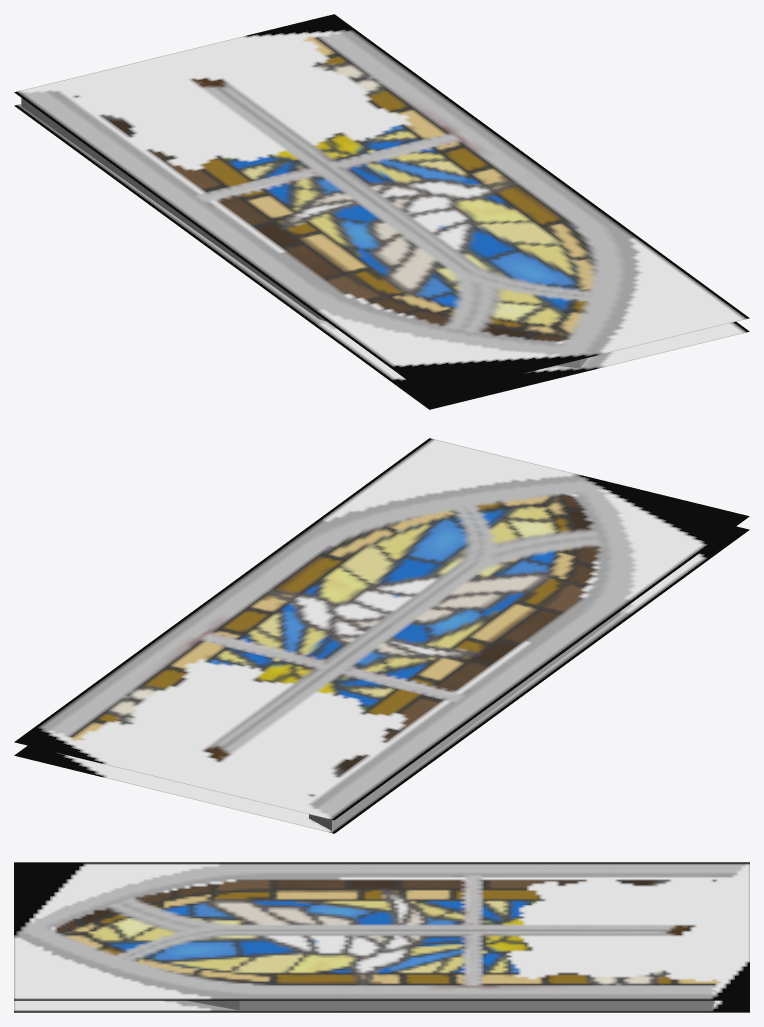
Rendered from pz_native_location_community_church_small_01_243_frame.obj.
3 renders of one model, top to bottom at view 1: azimuth 30°, elevation 25°; view 2: azimuth 150°, elevation 25°; view 3: azimuth 270°, elevation 25°, orthographic. The views are drawn at different scales.
Parts seen in each view (by area): view 1: pz_native_location_community_church_small_01_243_frame; view 2: pz_native_location_community_church_small_01_243_frame; view 3: pz_native_location_community_church_small_01_243_frame.
Part boxes in pixels (x1,y1,x2,y2): pz_native_location_community_church_small_01_243_frame: (14,14,749,409); pz_native_location_community_church_small_01_243_frame: (14,438,749,833); pz_native_location_community_church_small_01_243_frame: (14,862,749,1012).
Size of the model in its own units: 1 by 0.04 by 2.25.
Materials: 1 (1 with a texture image).
